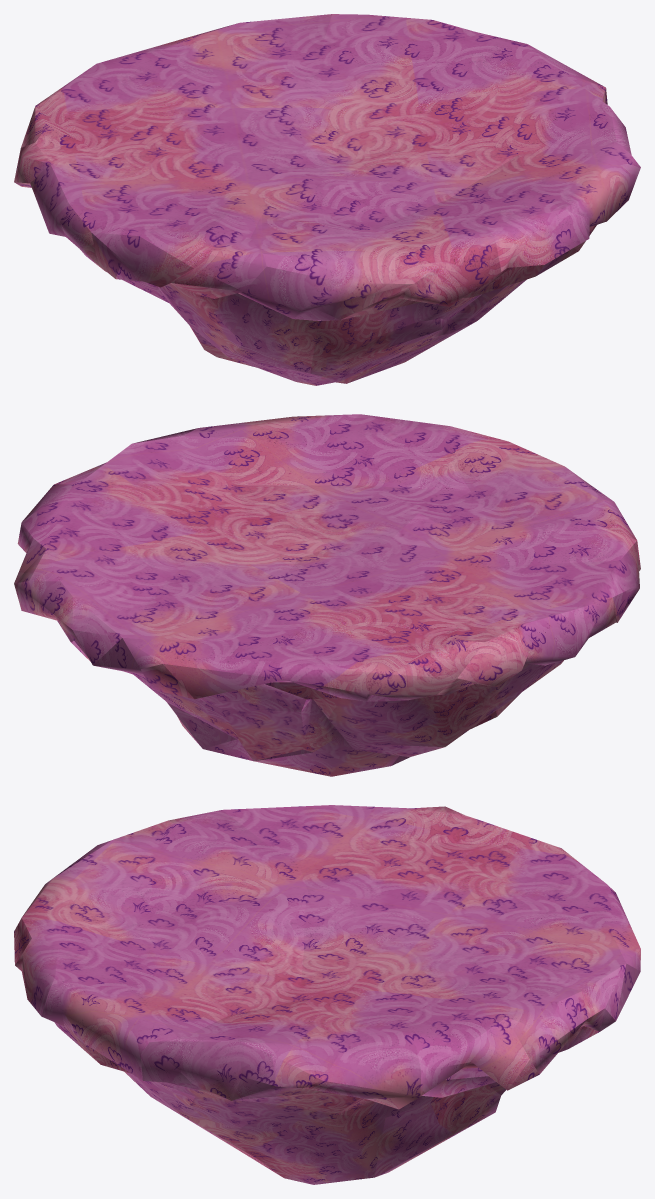
Rendered from Floating_Island_01_Art.glb.
The picture shows the model from 3 angles, top to bottom: view 1: azimuth 30°, elevation 25°; view 2: azimuth 150°, elevation 25°; view 3: azimuth 270°, elevation 25°; orthographic projection.
Visible parts, largest first — view 1: Floating_Island_01_Art; view 2: Floating_Island_01_Art; view 3: Floating_Island_01_Art.
Boxes of the visible parts, box(x1,y1,x2,y2) form: Floating_Island_01_Art: box(14, 14, 640, 385); Floating_Island_01_Art: box(14, 414, 640, 776); Floating_Island_01_Art: box(14, 805, 640, 1184).
Bounding box in the file's own units: 14.79 × 5.6 × 14.49.
Materials: 1 (1 with a texture image).
